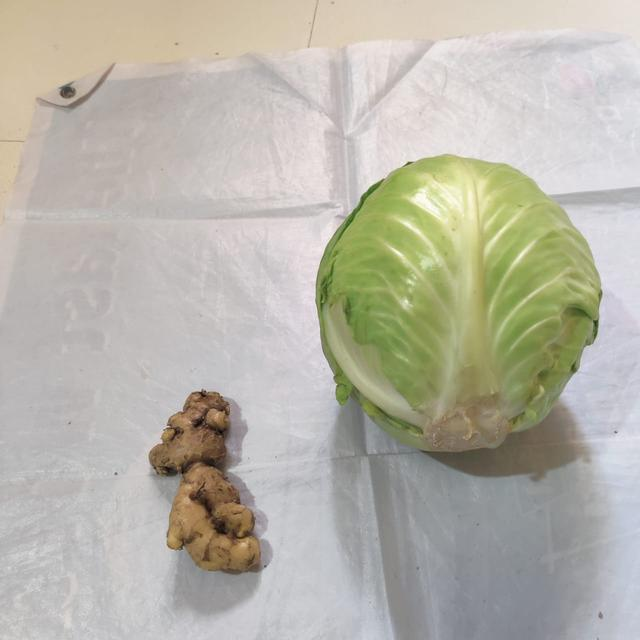Organik: (311, 154, 605, 453), (148, 389, 264, 577)
